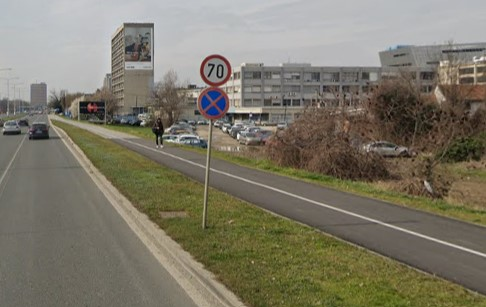Ograničenje brzine 70: (200, 54, 232, 86)
